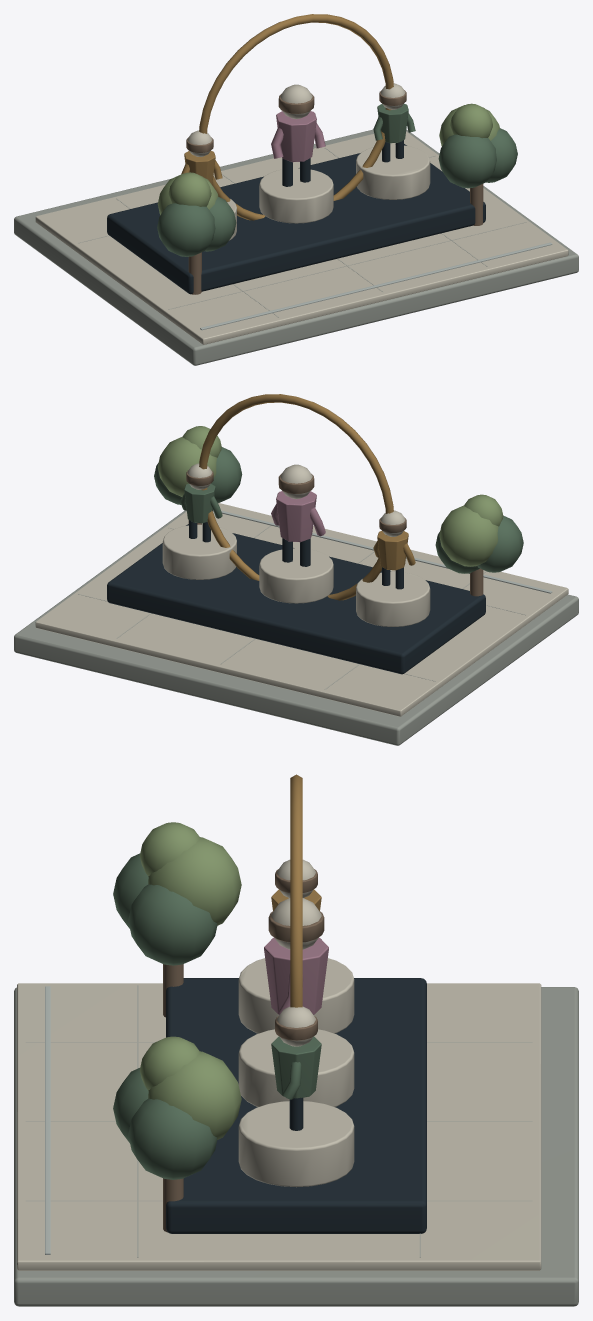
The model's file is idea-e322bab3.glb.
The picture shows the model from 3 angles, top to bottom: view 1: azimuth 30°, elevation 25°; view 2: azimuth 150°, elevation 25°; view 3: azimuth 270°, elevation 25°; orthographic projection. The views are drawn at different scales.
Visible parts, largest first — view 1: GhibliFace AI; view 2: GhibliFace AI; view 3: GhibliFace AI.
Part boxes in pixels (x1,y1,x2,y2): GhibliFace AI: [14, 14, 578, 365]; GhibliFace AI: [14, 394, 578, 745]; GhibliFace AI: [14, 774, 578, 1306].
Bounding box in the file's own units: 4.8 × 2.82 × 3.9.
